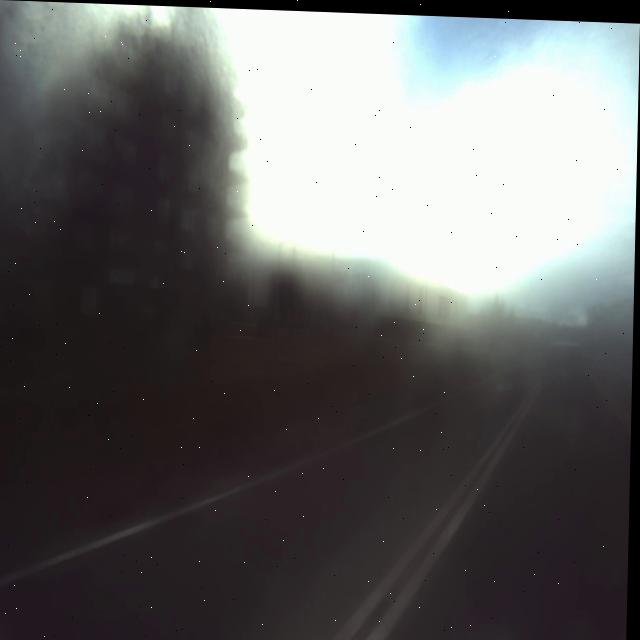car: (541, 320, 601, 405)
